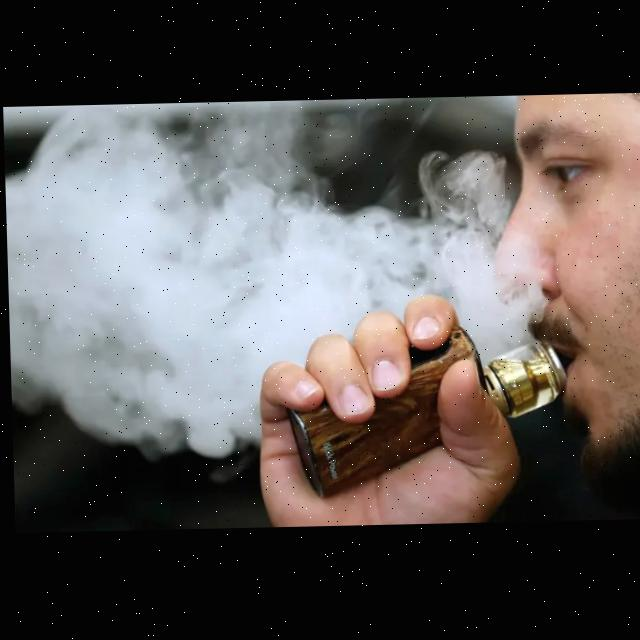vape: (280, 322, 569, 499)
